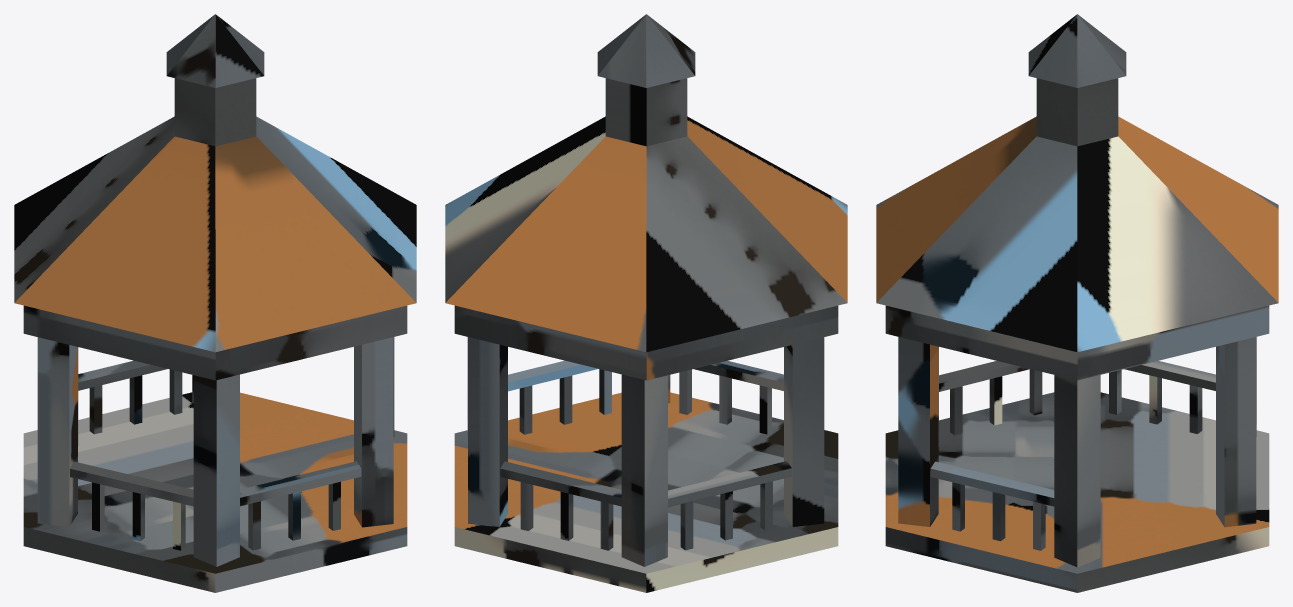
File: gazebo3326304.gltf
The picture shows the model from 3 angles, left to right: view 1: azimuth 30°, elevation 25°; view 2: azimuth 150°, elevation 25°; view 3: azimuth 270°, elevation 25°; orthographic projection.
Visible parts, largest first — view 1: node_gazebo; view 2: node_gazebo; view 3: node_gazebo.
Boxes of the visible parts, box(x1,y1,x2,y2) form: node_gazebo: box(14, 14, 416, 592); node_gazebo: box(445, 14, 847, 592); node_gazebo: box(876, 14, 1278, 592).
Size of the model in its own units: 1.89 by 2.18 by 1.64.
